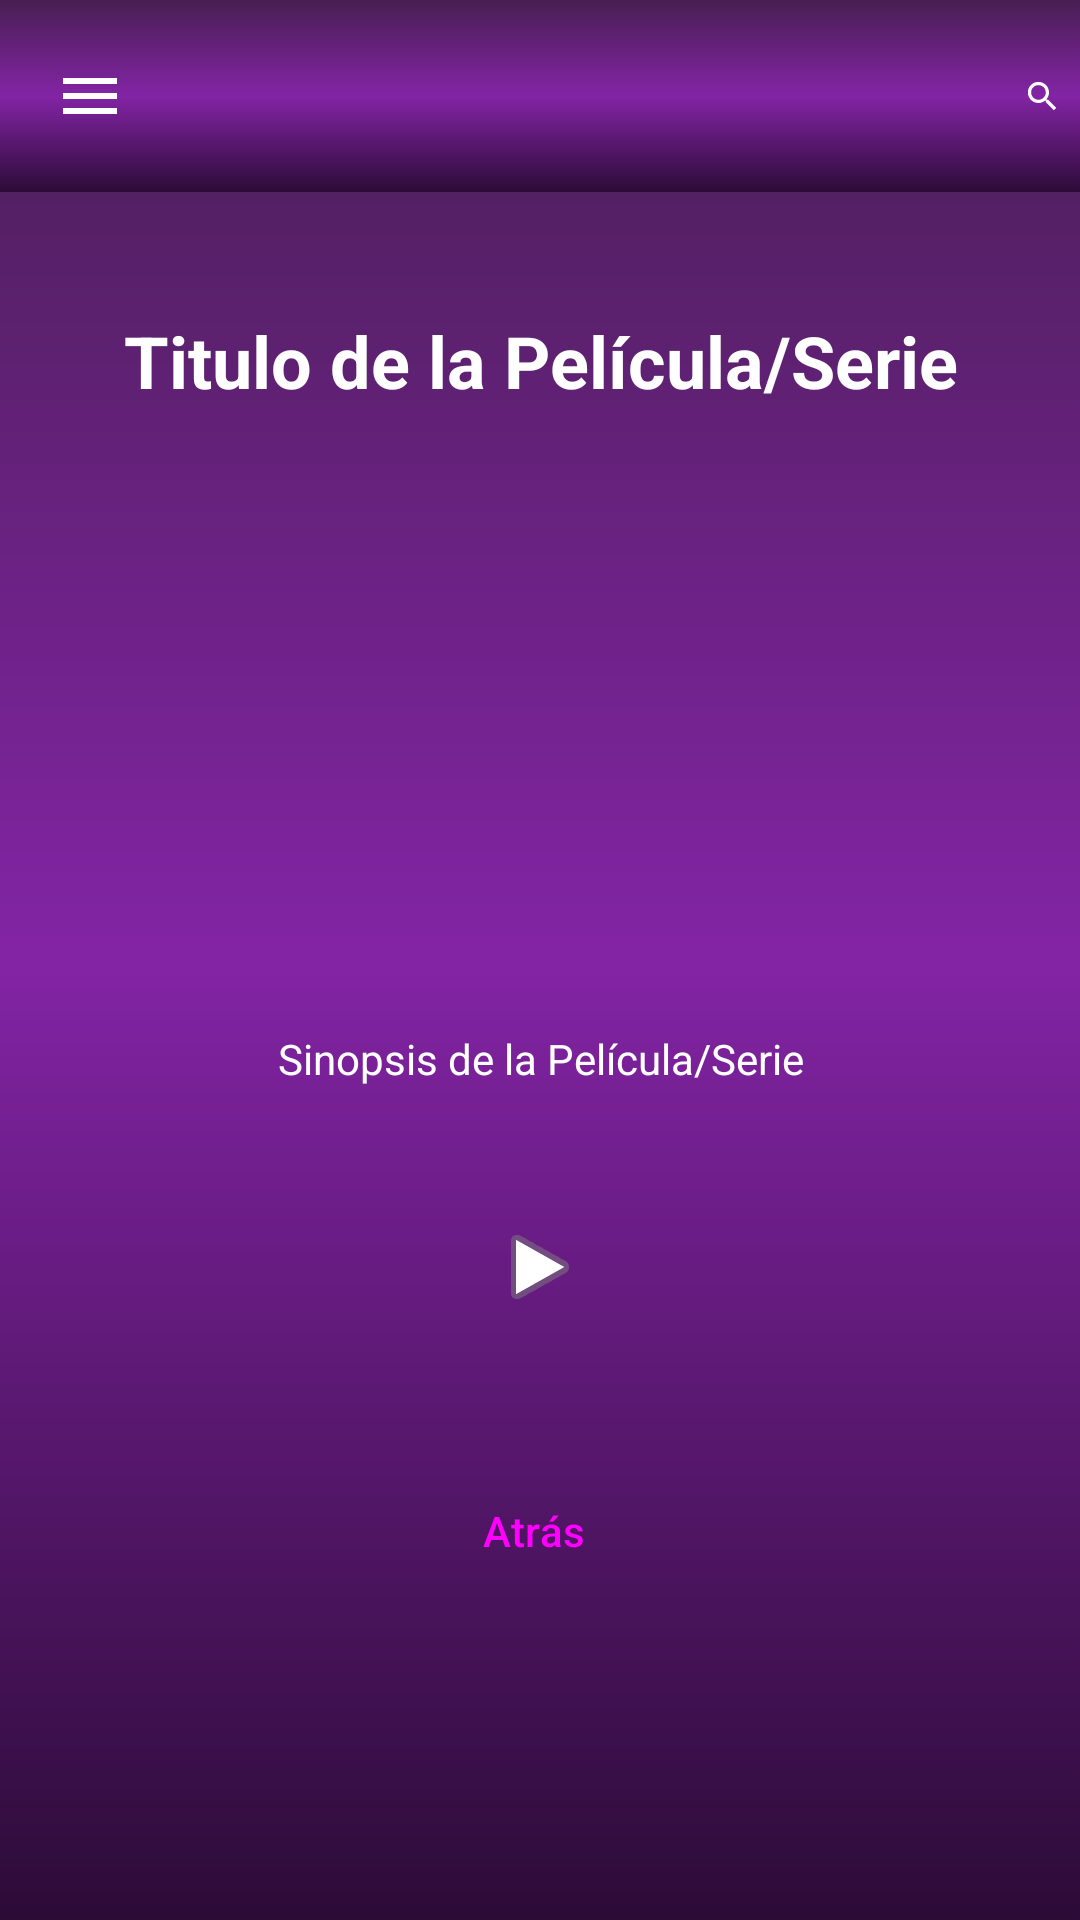

Screen size 1080×1920. Icon name, then its center in pixels as (x=x, y=y):
lupa: (x=1042, y=96)
menu: (x=90, y=96)
